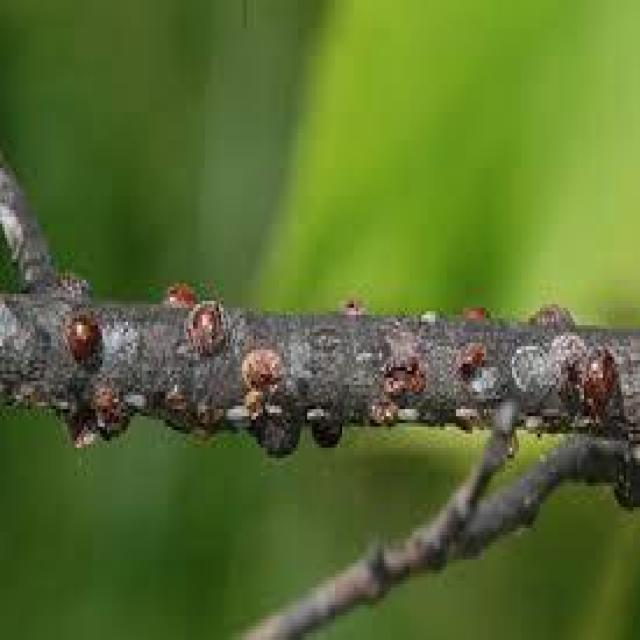Black Scale: (580, 350, 619, 426), (184, 295, 228, 358), (254, 406, 298, 455), (66, 313, 105, 368), (242, 346, 279, 388), (312, 416, 340, 448)
